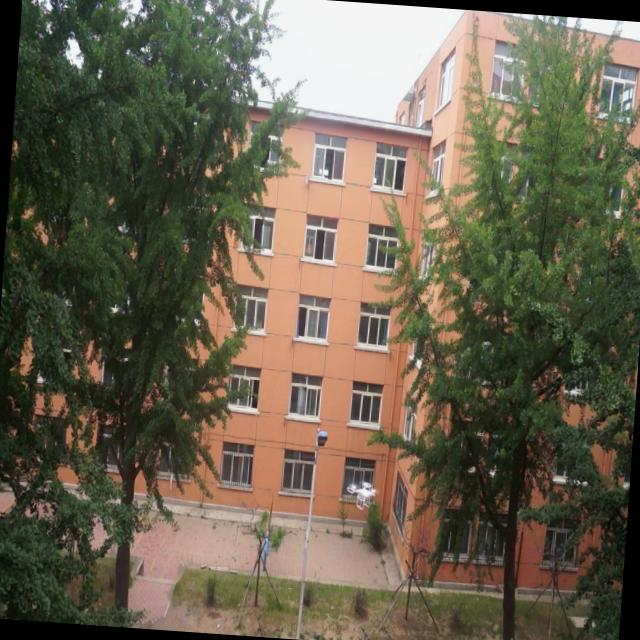drone: (341, 478, 380, 514)
